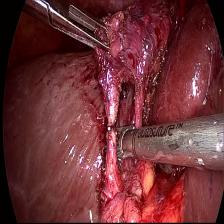Clipper: (108, 118, 136, 161)
Grasper: (40, 0, 114, 58)
